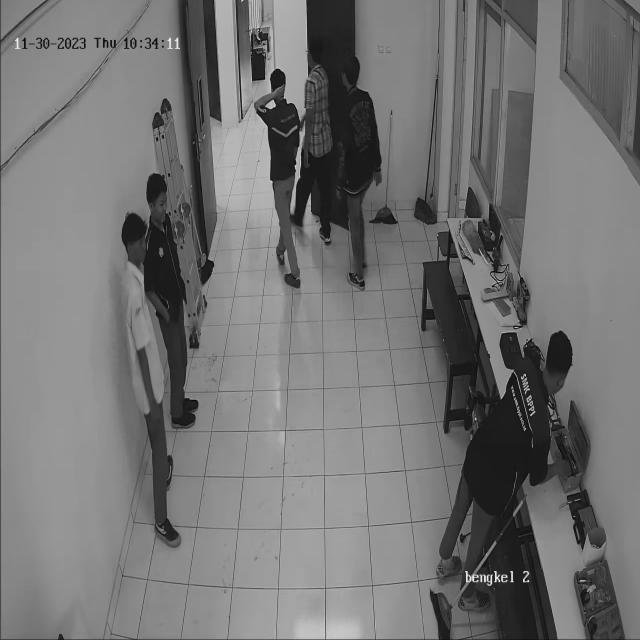person: (121, 158, 196, 544), (264, 73, 309, 310), (334, 49, 378, 291), (299, 29, 339, 248)
